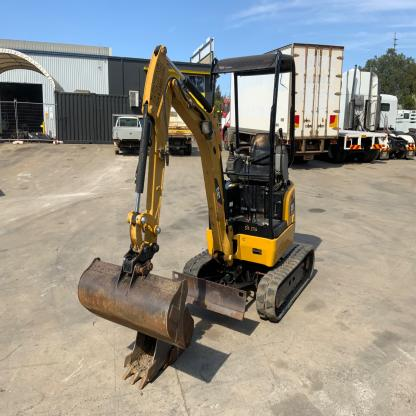excavator: (67, 31, 335, 387)
